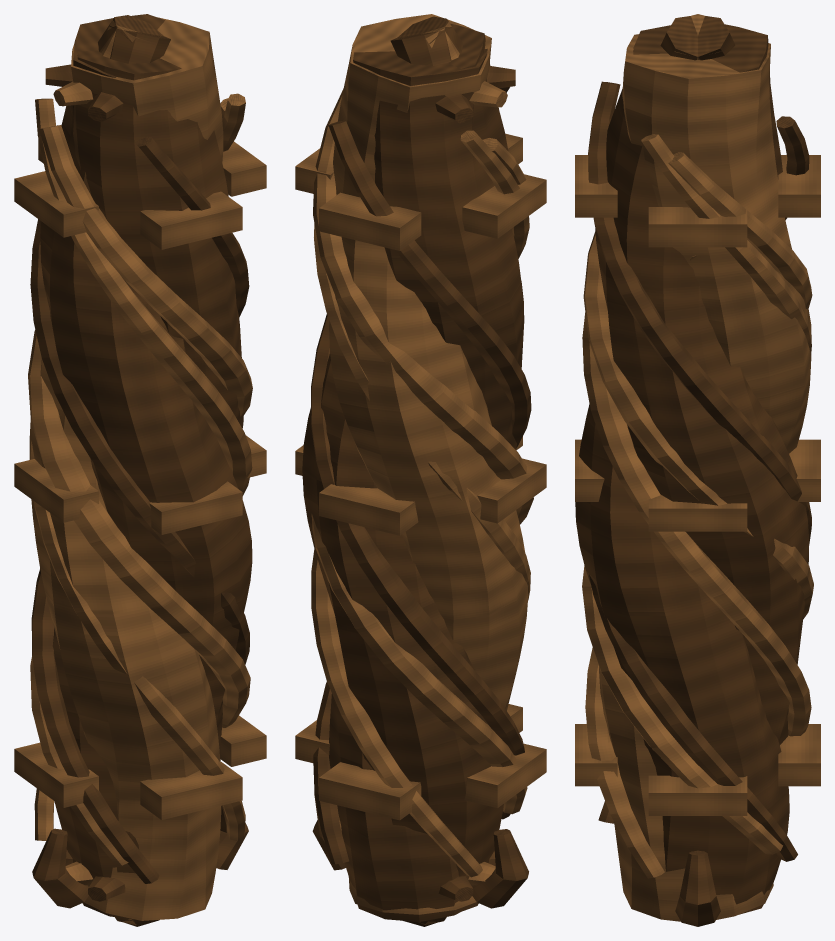
The model's file is rootforged-worldroot-pillar-4m.glb.
3 views of the same model, side by side, from view 1: azimuth 30°, elevation 25°; view 2: azimuth 150°, elevation 25°; view 3: azimuth 270°, elevation 25° (orthographic).
Parts seen in each view (by area): view 1: braided-root-1, braided-root-0, braided-root-2, surface-root-vein-0, surface-root-vein-1, bark-ridge-2, bark-ridge-3, bark-ridge-0, bark-ridge-1, pillar-key-y-0--1, pillar-key-y-2--1, pillar-key-y-1--1 (+12 smaller); view 2: braided-root-1, braided-root-0, braided-root-2, surface-root-vein-0, bark-ridge-0, bark-ridge-2, bark-ridge-3, surface-root-vein-1, pillar-key-y-2-1, bark-ridge-1, pillar-key-y-0-1, pillar-key-y-1-1 (+10 smaller); view 3: braided-root-1, braided-root-2, braided-root-0, bark-ridge-3, surface-root-vein-0, bark-ridge-2, bark-ridge-1, surface-root-vein-1, bark-ridge-0, pillar-key-x-2-1, pillar-key-x-0-1, pillar-key-x-1-1 (+9 smaller).
Part boxes in pixels (x1,y1,x2,y2): braided-root-1: [29, 17, 223, 920]; braided-root-0: [40, 14, 252, 902]; braided-root-2: [52, 50, 243, 919]; surface-root-vein-0: [28, 98, 250, 727]; surface-root-vein-1: [30, 125, 252, 865]; bark-ridge-2: [31, 136, 249, 883]; bark-ridge-3: [34, 98, 252, 840]; bark-ridge-0: [30, 219, 249, 664]; bark-ridge-1: [30, 93, 245, 841]; pillar-key-y-0--1: [140, 762, 242, 820]; pillar-key-y-2--1: [140, 191, 242, 249]; pillar-key-y-1--1: [149, 481, 242, 534]; braided-root-1: [329, 14, 528, 914]; braided-root-0: [329, 48, 524, 921]; braided-root-2: [302, 23, 508, 910]; surface-root-vein-0: [313, 88, 533, 836]; bark-ridge-0: [313, 120, 531, 864]; bark-ridge-2: [311, 87, 524, 819]; bark-ridge-3: [311, 130, 529, 877]; surface-root-vein-1: [311, 138, 527, 814]; pillar-key-y-2-1: [319, 192, 421, 250]; bark-ridge-1: [314, 224, 530, 600]; pillar-key-y-0-1: [319, 762, 421, 820]; pillar-key-y-1-1: [319, 484, 418, 535]; braided-root-1: [599, 34, 811, 921]; braided-root-2: [595, 25, 809, 745]; braided-root-0: [575, 24, 789, 914]; bark-ridge-3: [582, 313, 811, 736]; surface-root-vein-0: [582, 152, 812, 854]; bark-ridge-2: [588, 81, 811, 823]; bark-ridge-1: [585, 134, 811, 878]; surface-root-vein-1: [583, 232, 813, 618]; bark-ridge-0: [589, 116, 809, 861]; pillar-key-x-2-1: [648, 207, 747, 247]; pillar-key-x-0-1: [648, 775, 747, 815]; pillar-key-x-1-1: [648, 494, 747, 531].
Size of the model in its own units: 1 by 4 by 1.
Materials: 2 (2 with a texture image).
